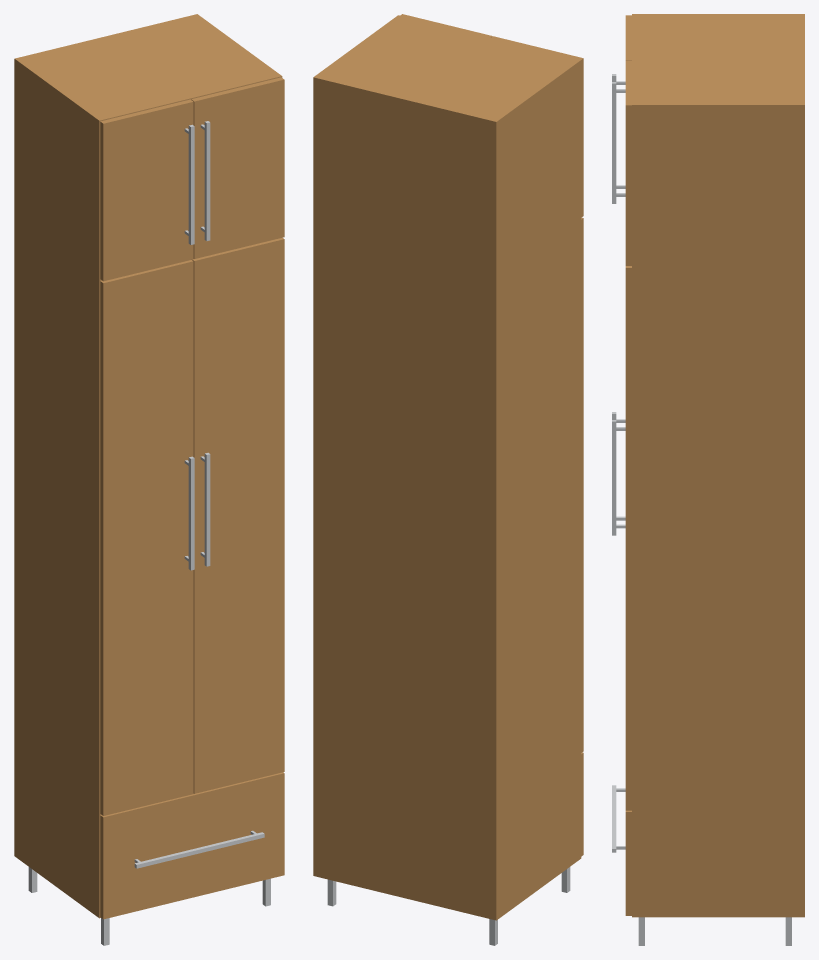
3 renders of one model, left to right at view 1: azimuth 30°, elevation 25°; view 2: azimuth 150°, elevation 25°; view 3: azimuth 270°, elevation 25°, orthographic.
Parts seen in each view (by area): view 1: Doors, Carcass, TopHandles, WingHandles, DrawerHandle, Legs; view 2: Carcass, Doors, Legs; view 3: Carcass, Doors, TopHandles, WingHandles.
Boxes of the visible parts, bbox=[...] form: Doors: bbox=[100, 77, 284, 919]; Carcass: bbox=[14, 14, 282, 918]; TopHandles: bbox=[184, 121, 210, 244]; WingHandles: bbox=[184, 452, 210, 570]; DrawerHandle: bbox=[134, 832, 264, 868]; Legs: bbox=[28, 867, 270, 945]; Carcass: bbox=[313, 15, 581, 920]; Doors: bbox=[400, 14, 583, 856]; Legs: bbox=[327, 867, 570, 945]; Carcass: bbox=[632, 14, 804, 917]; Doors: bbox=[625, 15, 631, 915]; TopHandles: bbox=[612, 74, 625, 203]; WingHandles: bbox=[612, 412, 625, 535].
Bounding box in the file's own units: 0.6 × 2.6 × 0.538.
